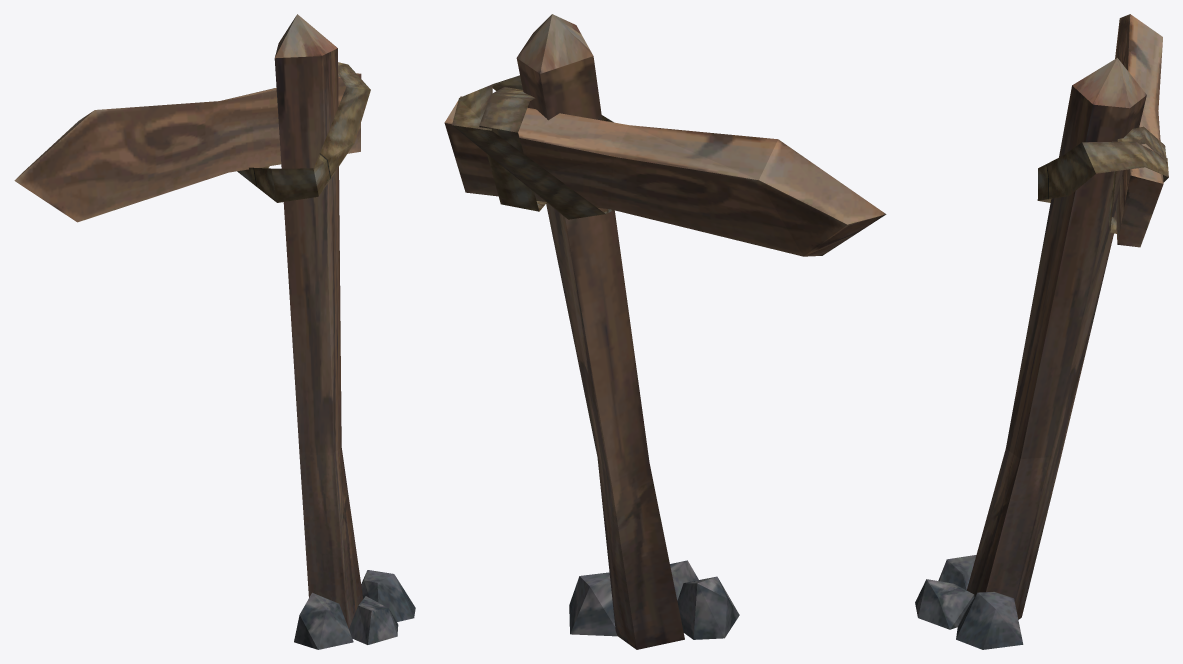
Rendered from object_signposts02.fbx.
3 renders of one model, left to right at view 1: azimuth 30°, elevation 25°; view 2: azimuth 150°, elevation 25°; view 3: azimuth 270°, elevation 25°, orthographic. The views are drawn at different scales.
Parts seen in each view (by area): view 1: obj0.115; view 2: obj0.115; view 3: obj0.115.
Part boxes in pixels (x1,y1,x2,y2): obj0.115: (14, 14, 415, 649); obj0.115: (444, 14, 886, 649); obj0.115: (915, 14, 1168, 649).
Size of the model in its own units: 2.43 by 3.71 by 1.49.
